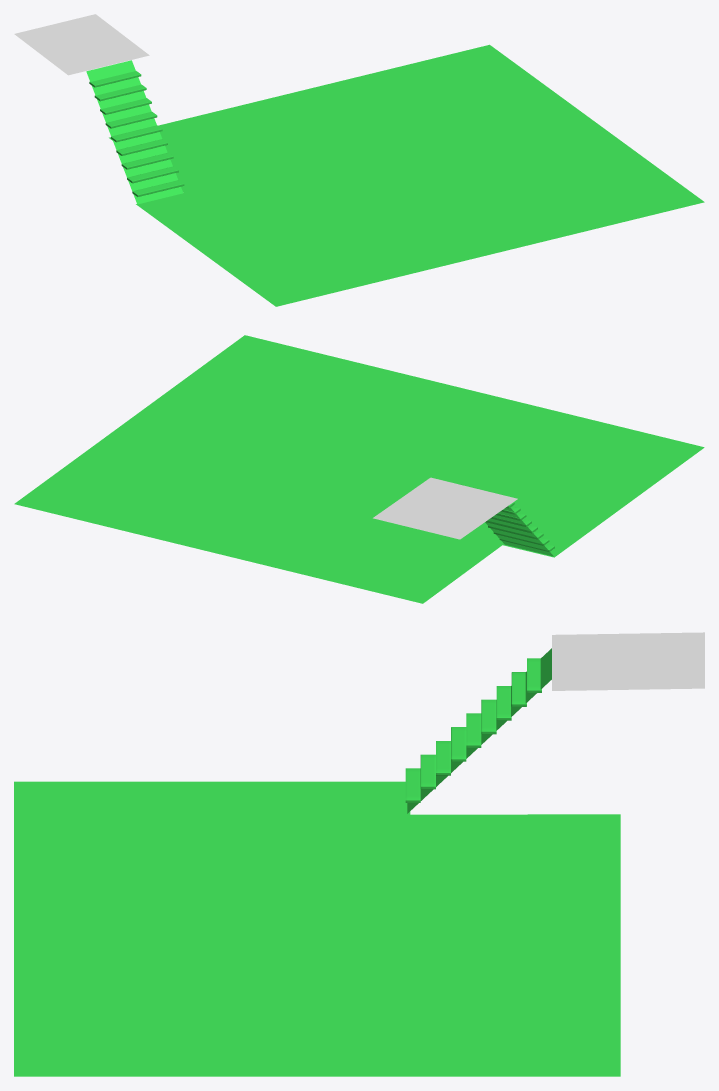
Rendered from Navmesh02.glb.
3 views of the same model, one above another, from view 1: azimuth 30°, elevation 25°; view 2: azimuth 150°, elevation 25°; view 3: azimuth 270°, elevation 25° (orthographic). The views are drawn at different scales.
Visible parts, largest first — view 1: Plane, Plane.001; view 2: Plane, Plane.001; view 3: Plane, Plane.001.
Part boxes in pixels (x1,y1,x2,y2): Plane: (86,44,704,306); Plane.001: (14,14,149,75); Plane: (14,335,704,603); Plane.001: (373,477,517,539); Plane: (14,648,620,1076); Plane.001: (552,632,704,690).
Bounding box in the file's own units: 14.35 × 3.02 × 13.67.
